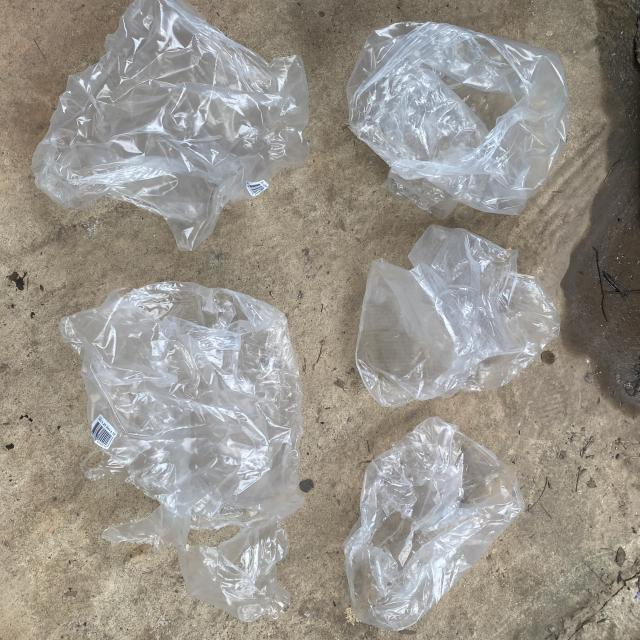Single-layer Plastic: (60, 281, 304, 621), (32, 0, 309, 250), (346, 22, 570, 218), (344, 418, 524, 631), (356, 225, 560, 408)
